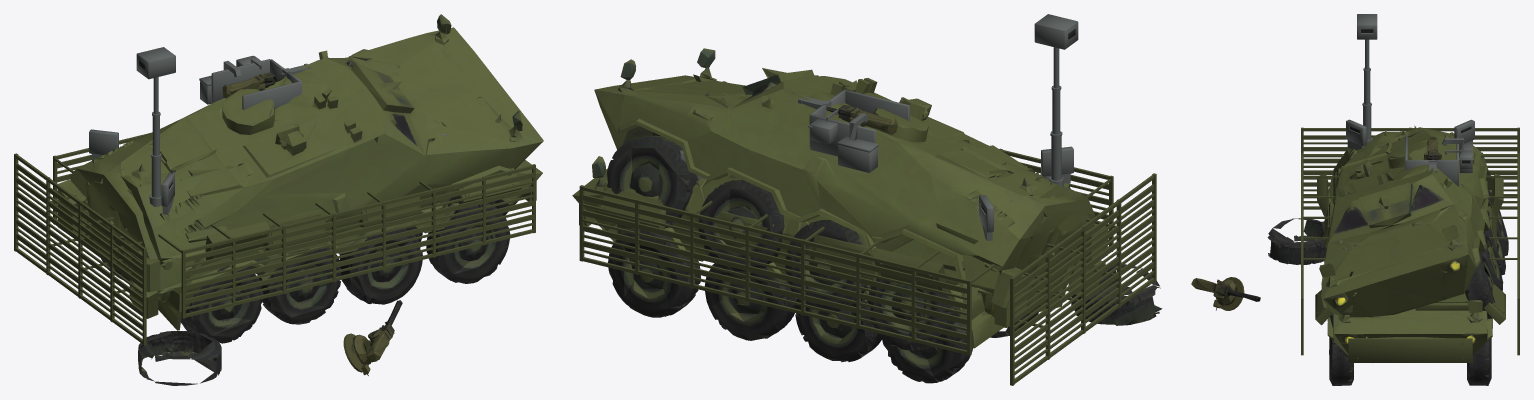
File: apc_eitan.glb
The picture shows the model from 3 angles, left to right: view 1: azimuth 30°, elevation 25°; view 2: azimuth 150°, elevation 25°; view 3: azimuth 270°, elevation 25°; orthographic projection. The views are drawn at different scales.
Visible parts, largest first — view 1: WRECK_hull_hull, kit_armour_3_hull_hull_far, hull_rubber, kit_armour_3_hull_hull_near, kit_armour_3_hull_hull, hull_hull, WRECK_hull_rubber, kit_armour_2_hull_hull, kit_firepower_3_turret_metal, kit_sensors_3_hull_hull, WRECK_turret_metal, kit_sensors_2_hull_hull (+2 smaller); view 2: WRECK_hull_hull, WRECK_hull_rubber, kit_armour_3_hull_hull_far, hull_rubber, kit_armour_3_hull_hull, kit_armour_3_hull_hull_near, hull_hull, kit_armour_2_hull_hull, kit_sensors_3_hull_hull, kit_firepower_3_turret_metal, kit_firepower_2_turret_metal, kit_sensors_2_hull_hull (+1 smaller); view 3: WRECK_hull_hull, hull_hull, WRECK_hull_rubber, kit_armour_1_hull_hull, kit_armour_3_hull_hull, kit_armour_2_hull_hull, hull_rubber, kit_armour_3_hull_hull_far, kit_sensors_3_hull_hull, kit_armour_3_hull_hull_near, WRECK_turret_metal, kit_sensors_2_hull_hull (+3 smaller).
Part boxes in pixels (<box>): WRECK_hull_hull: <box>57,14,543,331</box>; kit_armour_3_hull_hull_far: <box>16,154,533,330</box>; hull_rubber: <box>193,198,512,343</box>; kit_armour_3_hull_hull_near: <box>16,157,533,335</box>; kit_armour_3_hull_hull: <box>14,133,535,345</box>; hull_hull: <box>58,157,542,343</box>; WRECK_hull_rubber: <box>138,165,511,385</box>; kit_armour_2_hull_hull: <box>205,168,521,260</box>; kit_firepower_3_turret_metal: <box>211,59,302,110</box>; kit_sensors_3_hull_hull: <box>136,47,175,206</box>; WRECK_turret_metal: <box>343,300,402,374</box>; kit_sensors_2_hull_hull: <box>89,129,445,214</box>; WRECK_hull_hull: <box>594,48,1105,350</box>; WRECK_hull_rubber: <box>606,118,1162,349</box>; kit_armour_3_hull_hull_far: <box>583,162,1154,368</box>; hull_rubber: <box>605,223,960,383</box>; kit_armour_3_hull_hull: <box>579,81,1156,385</box>; kit_armour_3_hull_hull_near: <box>583,167,1154,374</box>; hull_hull: <box>572,145,1107,383</box>; kit_armour_2_hull_hull: <box>595,182,945,294</box>; kit_sensors_3_hull_hull: <box>1034,14,1078,186</box>; kit_firepower_3_turret_metal: <box>809,90,909,156</box>; kit_firepower_2_turret_metal: <box>798,95,878,172</box>; kit_sensors_2_hull_hull: <box>679,146,1073,240</box>; WRECK_hull_hull: <box>1319,125,1492,317</box>; hull_hull: <box>1328,129,1492,355</box>; WRECK_hull_rubber: <box>1267,189,1508,356</box>; kit_armour_1_hull_hull: <box>1348,293,1472,362</box>; kit_armour_3_hull_hull: <box>1301,127,1519,355</box>; kit_armour_2_hull_hull: <box>1315,173,1505,325</box>; hull_rubber: <box>1327,317,1492,385</box>; kit_armour_3_hull_hull_far: <box>1303,135,1517,196</box>; kit_sensors_3_hull_hull: <box>1357,14,1377,143</box>; kit_armour_3_hull_hull_near: <box>1303,137,1517,203</box>; WRECK_turret_metal: <box>1210,277,1260,310</box>; kit_sensors_2_hull_hull: <box>1343,119,1474,249</box>.
Bounding box in the file's own units: 7.6 × 5.16 × 6.08.
1 material, 1 textured.
